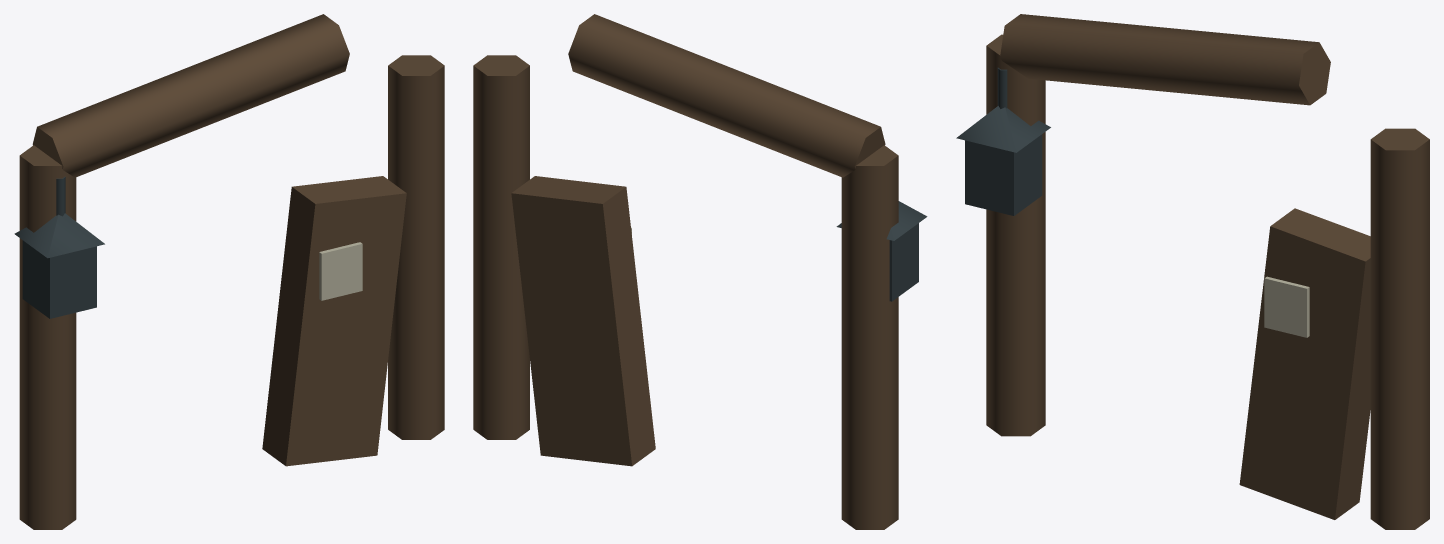
Rendered from toll-remnant.glb.
The picture shows the model from 3 angles, left to right: view 1: azimuth 30°, elevation 25°; view 2: azimuth 150°, elevation 25°; view 3: azimuth 330°, elevation 25°; orthographic projection. The views are drawn at different scales.
Visible parts, largest first — view 1: toll-remnant; view 2: toll-remnant; view 3: toll-remnant.
Boxes of the visible parts, <box> form: toll-remnant: <box>14,14,444,529</box>; toll-remnant: <box>473,14,927,529</box>; toll-remnant: <box>956,14,1429,529</box>.
Bounding box in the file's own units: 2.05 × 2.03 × 0.3714.
